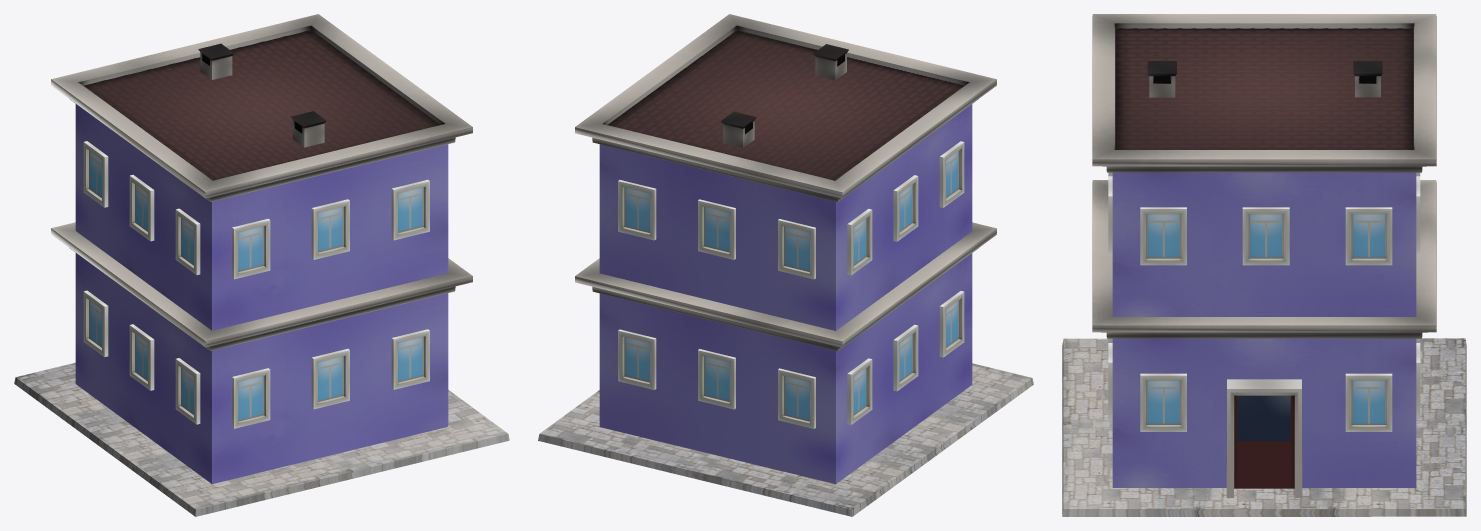
File: classic-building.fbx
3 renders of one model, left to right at view 1: azimuth 30°, elevation 25°; view 2: azimuth 150°, elevation 25°; view 3: azimuth 270°, elevation 25°, orthographic. The views are drawn at different scales.
Parts seen in each view (by area): view 1: flat_roof2, wallls_cb, wallls_cb_1, sidewalk, flat_roof, window_cb_18, window_cb_20, window_cb_8, window_cb_7, window_cb_19, window_cb_6, window_cb_9 (+7 smaller); view 2: flat_roof2, wallls_cb, wallls_cb_1, sidewalk, flat_roof, window_cb_2, window_cb_14, window_cb, window_cb_13, window_cb_12, window_cb_1, window_cb_11 (+7 smaller); view 3: flat_roof2, wallls_cb_1, wallls_cb, sidewalk, flat_roof, door_cb, window_cb_15, window_cb_16, window_cb_4, window_cb_17, window_cb_5, chimney_cb_1 (+1 smaller).
Boxes of the visible parts, bbox=[...] form: flat_roof2: bbox=[51, 14, 472, 201]; wallls_cb: bbox=[75, 253, 448, 483]; wallls_cb_1: bbox=[75, 104, 448, 330]; sidewalk: bbox=[14, 362, 509, 516]; flat_roof: bbox=[51, 222, 472, 350]; window_cb_18: bbox=[311, 199, 349, 259]; window_cb_20: bbox=[232, 218, 270, 279]; window_cb_8: bbox=[232, 368, 270, 428]; window_cb_7: bbox=[391, 329, 429, 389]; window_cb_19: bbox=[391, 179, 429, 240]; window_cb_6: bbox=[311, 348, 349, 409]; window_cb_9: bbox=[129, 324, 154, 390]; flat_roof2: bbox=[575, 14, 996, 202]; wallls_cb: bbox=[599, 253, 972, 483]; wallls_cb_1: bbox=[599, 104, 972, 330]; sidewalk: bbox=[538, 363, 1033, 516]; flat_roof: bbox=[575, 222, 996, 351]; window_cb_2: bbox=[618, 329, 656, 389]; window_cb_14: bbox=[618, 180, 656, 240]; window_cb: bbox=[698, 349, 735, 409]; window_cb_13: bbox=[778, 219, 815, 279]; window_cb_12: bbox=[698, 199, 735, 259]; window_cb_1: bbox=[778, 368, 815, 428]; window_cb_11: bbox=[847, 358, 872, 424]; flat_roof2: bbox=[1092, 14, 1436, 172]; wallls_cb_1: bbox=[1112, 172, 1416, 316]; wallls_cb: bbox=[1112, 338, 1416, 487]; sidewalk: bbox=[1062, 338, 1466, 516]; flat_roof: bbox=[1092, 180, 1436, 338]; door_cb: bbox=[1226, 379, 1302, 497]; window_cb_15: bbox=[1242, 207, 1289, 265]; window_cb_16: bbox=[1345, 207, 1392, 265]; window_cb_4: bbox=[1345, 373, 1392, 431]; window_cb_17: bbox=[1140, 207, 1186, 265]; window_cb_5: bbox=[1140, 373, 1186, 431]; chimney_cb_1: bbox=[1147, 61, 1176, 97].
Bounding box in the file's own units: 787 × 784 × 787.
6 materials, 6 textured.
